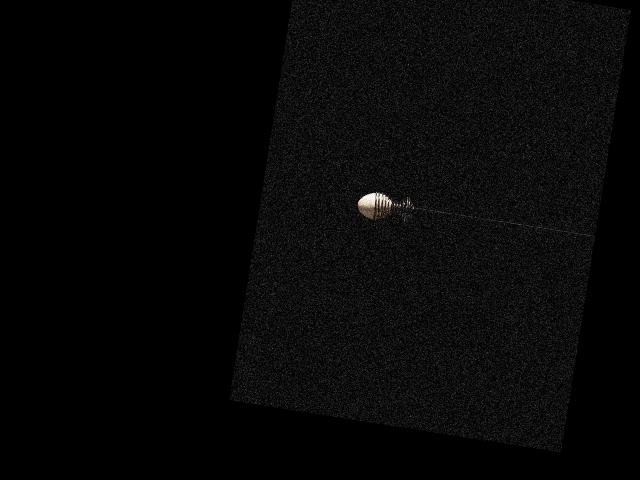egg: (355, 189, 393, 221)
